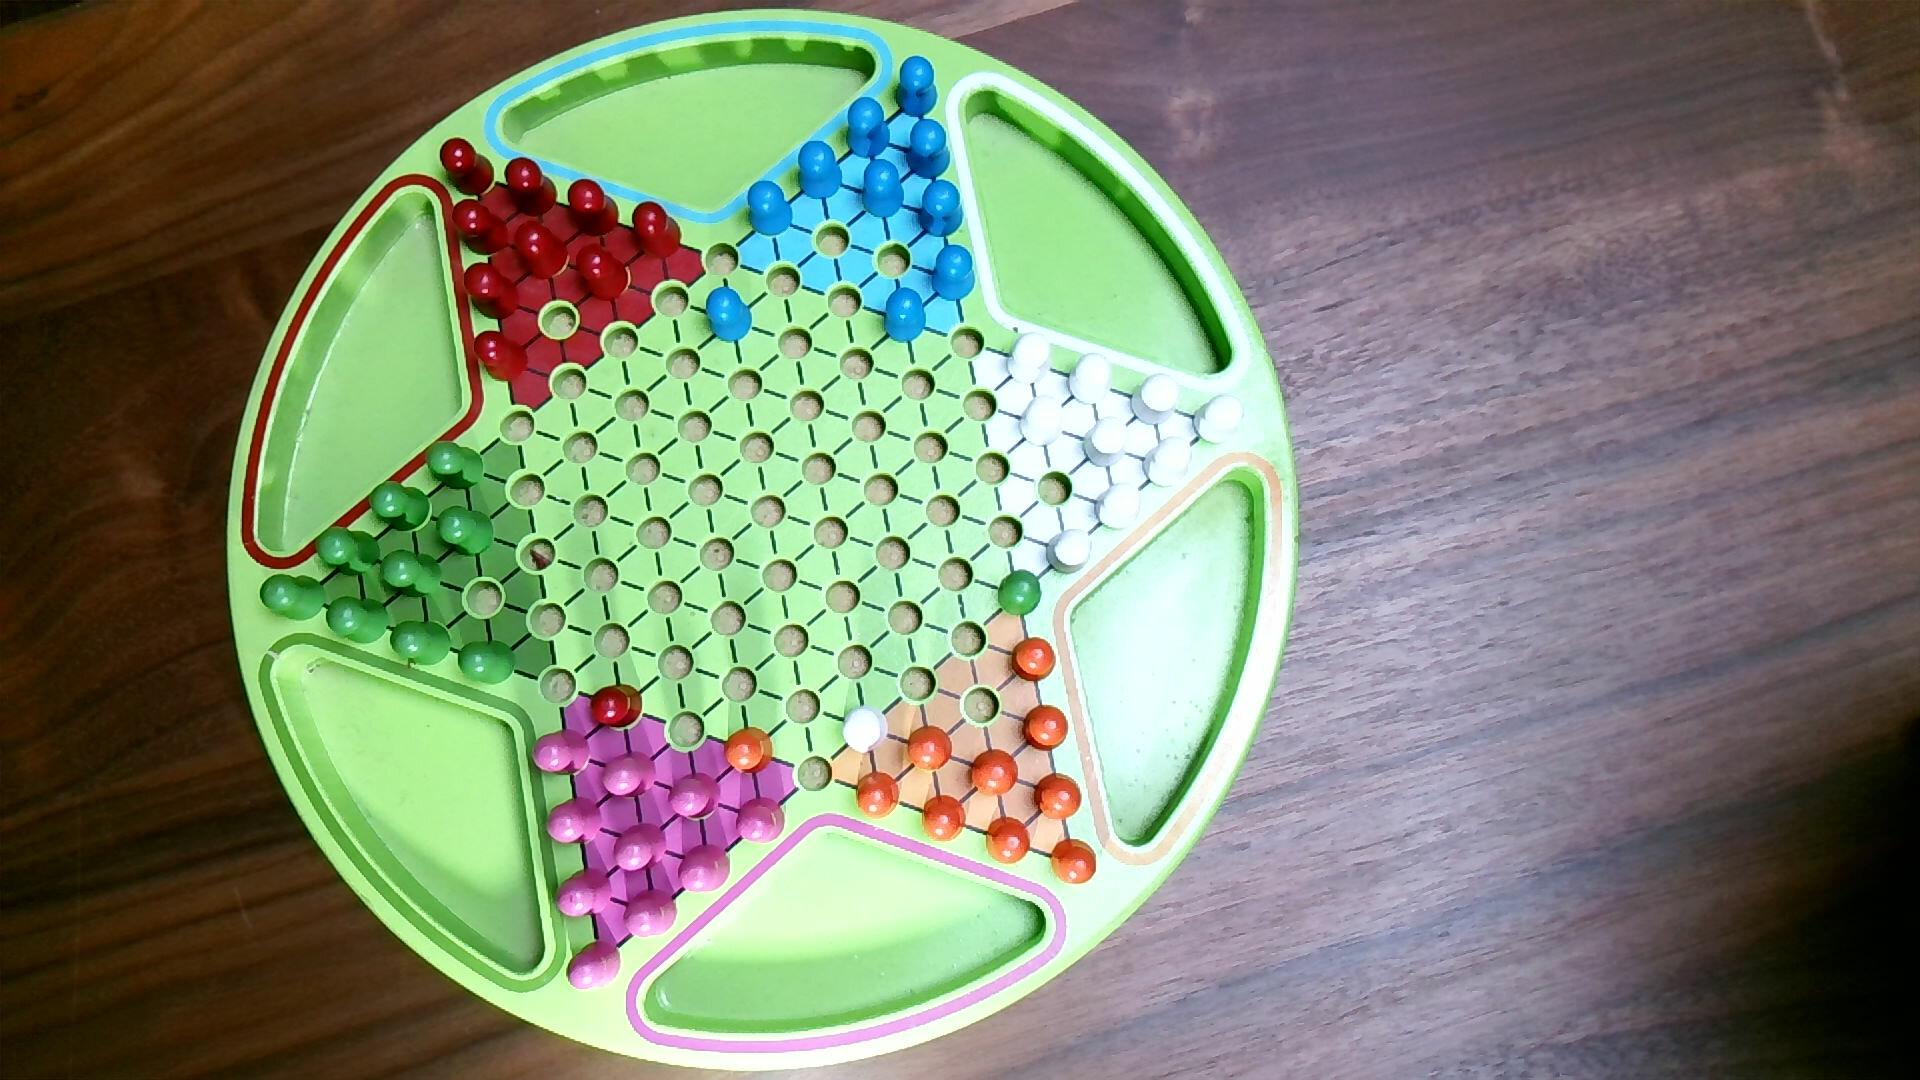B: (893, 55, 940, 119), (746, 179, 795, 240), (861, 158, 907, 222), (906, 117, 952, 181), (705, 286, 754, 345), (918, 179, 967, 239), (931, 244, 978, 305), (796, 140, 844, 200), (847, 96, 891, 160), (882, 286, 928, 345)
G: (316, 526, 382, 579), (368, 480, 433, 533), (326, 595, 390, 646), (260, 574, 327, 622), (380, 549, 443, 600), (436, 505, 496, 559), (425, 440, 485, 493), (390, 620, 454, 669), (458, 640, 518, 686), (997, 568, 1044, 618)
O: (967, 746, 1022, 800), (1031, 769, 1085, 823), (982, 814, 1034, 868), (1048, 836, 1100, 890), (1019, 702, 1071, 756), (724, 727, 777, 777), (852, 769, 902, 822), (905, 724, 955, 775), (920, 794, 968, 845), (1010, 636, 1058, 684)
R: (512, 220, 572, 282), (502, 156, 560, 219), (462, 261, 522, 320), (451, 198, 512, 257), (439, 137, 497, 198), (575, 243, 632, 303), (566, 178, 621, 237), (632, 200, 684, 261), (473, 330, 530, 384), (589, 684, 645, 731)
R2: (553, 866, 613, 919), (564, 938, 622, 992), (611, 822, 670, 874), (531, 728, 593, 778), (545, 796, 604, 847), (667, 771, 723, 824), (622, 887, 679, 939), (676, 843, 733, 893), (603, 750, 658, 799), (736, 796, 789, 845)
W: (1192, 393, 1247, 447), (1141, 435, 1195, 491), (1130, 372, 1182, 429), (1005, 331, 1054, 386), (1065, 352, 1114, 407), (1081, 415, 1130, 469), (1018, 394, 1065, 450), (1093, 483, 1143, 533), (1044, 527, 1095, 578), (841, 705, 891, 756)
